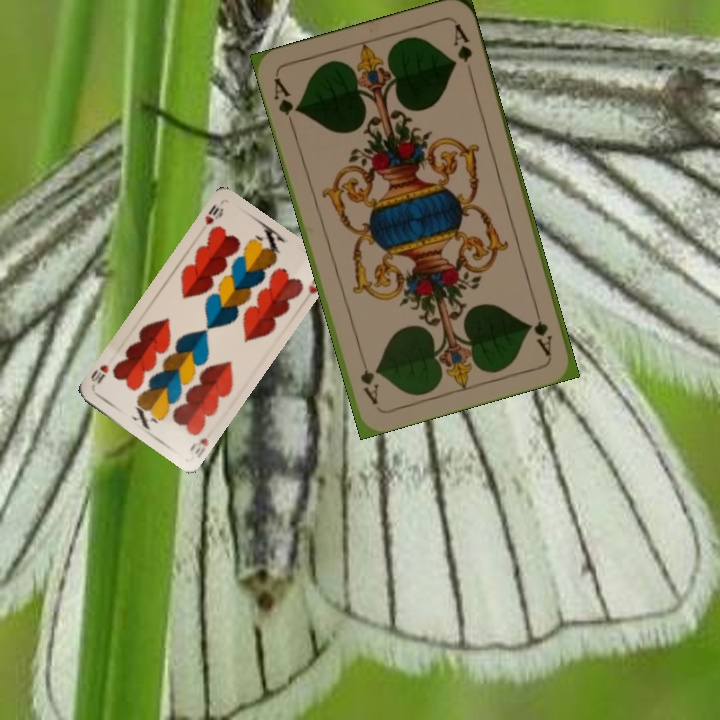GA: (269, 73, 301, 131), (529, 300, 555, 359)
H10: (185, 434, 211, 460), (201, 201, 226, 228)
